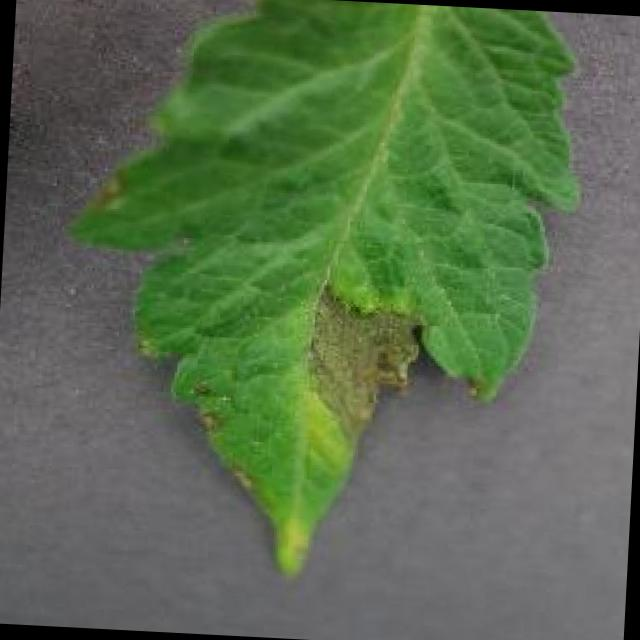Tomato_Late_Blight: (183, 279, 488, 542)
